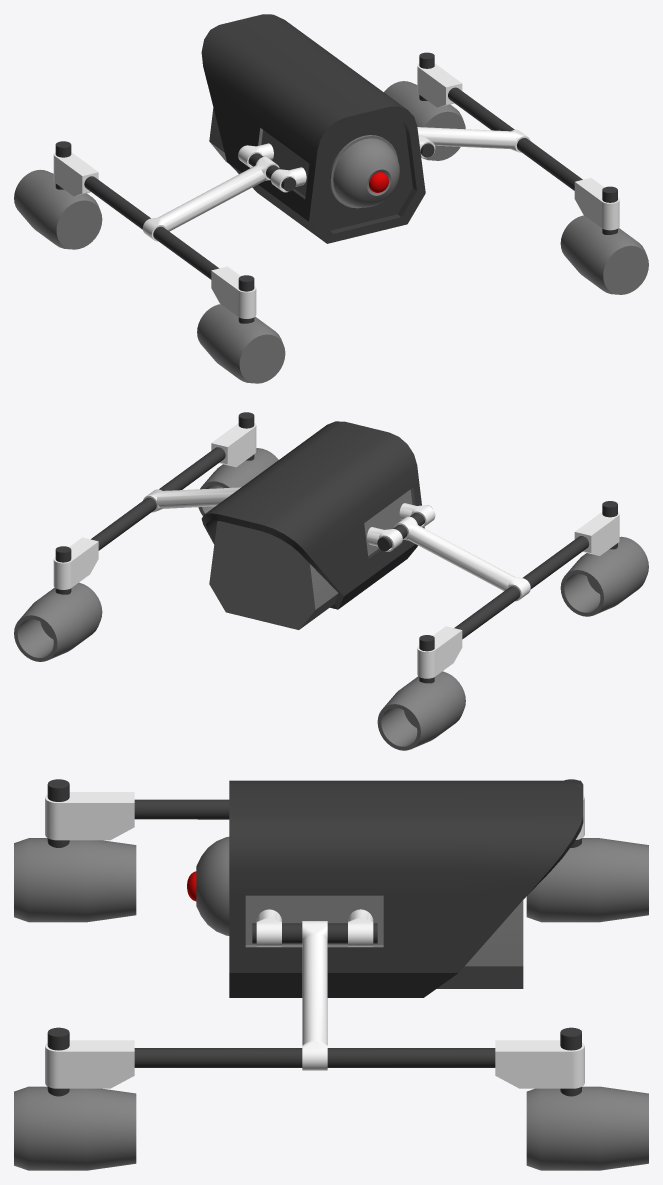
Rendered from tyrian_boss.fbx.
3 renders of one model, top to bottom at view 1: azimuth 30°, elevation 25°; view 2: azimuth 150°, elevation 25°; view 3: azimuth 270°, elevation 25°, orthographic. The views are drawn at different scales.
Parts seen in each view (by area): view 1: body, arms, thruster1, thruster2, thruster4, thruster3; view 2: body, arms, thruster4, thruster3, thruster1, thruster2; view 3: body, arms, thruster3, thruster1, thruster2, thruster4.
Boxes of the visible parts, left/top/right/bottom form: body: left=201, top=14, right=425, bottom=243; arms: left=53, top=52, right=619, bottom=323; thruster1: left=197, top=304, right=285, bottom=383; thruster2: left=560, top=215, right=648, bottom=294; thruster4: left=14, top=169, right=102, bottom=249; thruster3: left=384, top=81, right=465, bottom=160; body: left=201, top=421, right=424, bottom=629; arms: left=53, top=412, right=619, bottom=683; thruster4: left=377, top=671, right=465, bottom=750; thruster3: left=14, top=582, right=102, bottom=661; thruster1: left=560, top=536, right=648, bottom=616; thruster2: left=198, top=448, right=278, bottom=515; body: left=196, top=780, right=583, bottom=997; arms: left=45, top=779, right=584, bottom=1096; thruster3: left=526, top=1086, right=648, bottom=1170; thruster1: left=14, top=838, right=136, bottom=922; thruster2: left=14, top=1086, right=136, bottom=1170; thruster4: left=526, top=838, right=648, bottom=922.
Size of the model in its own units: 1324 by 528 by 1251.
